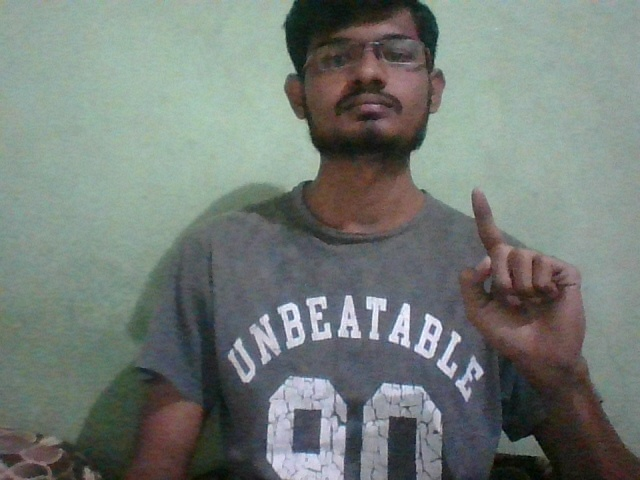where: (435, 177, 620, 382)
